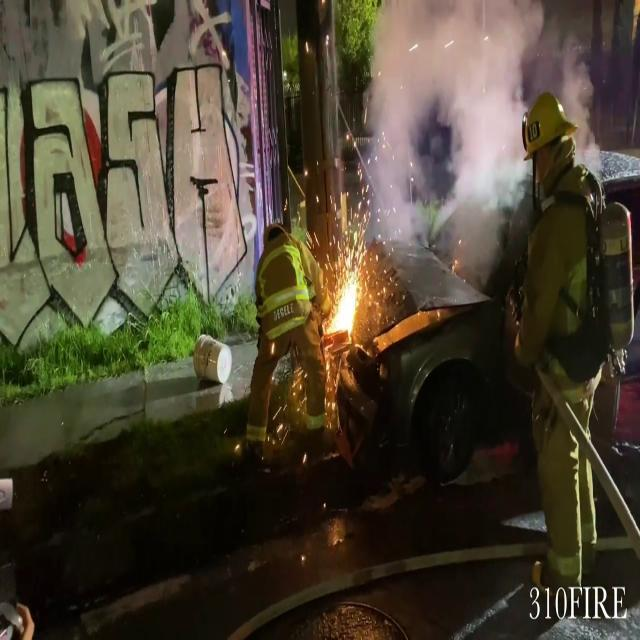Smoke: (358, 0, 565, 259)
